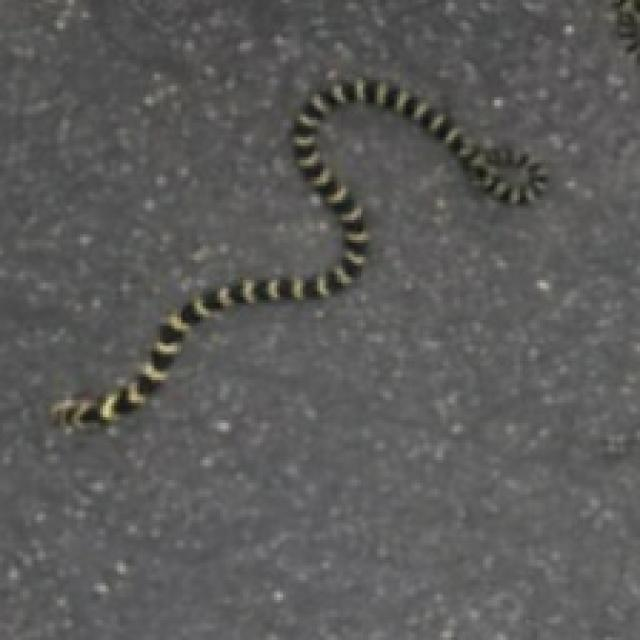king cobra: (49, 77, 546, 426)
